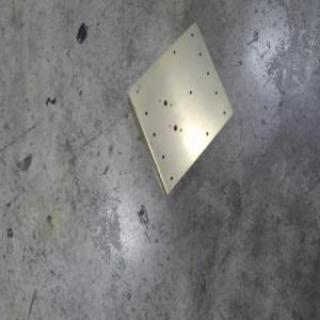MetalSheettrack_idkeyframe: (123, 19, 234, 198)
